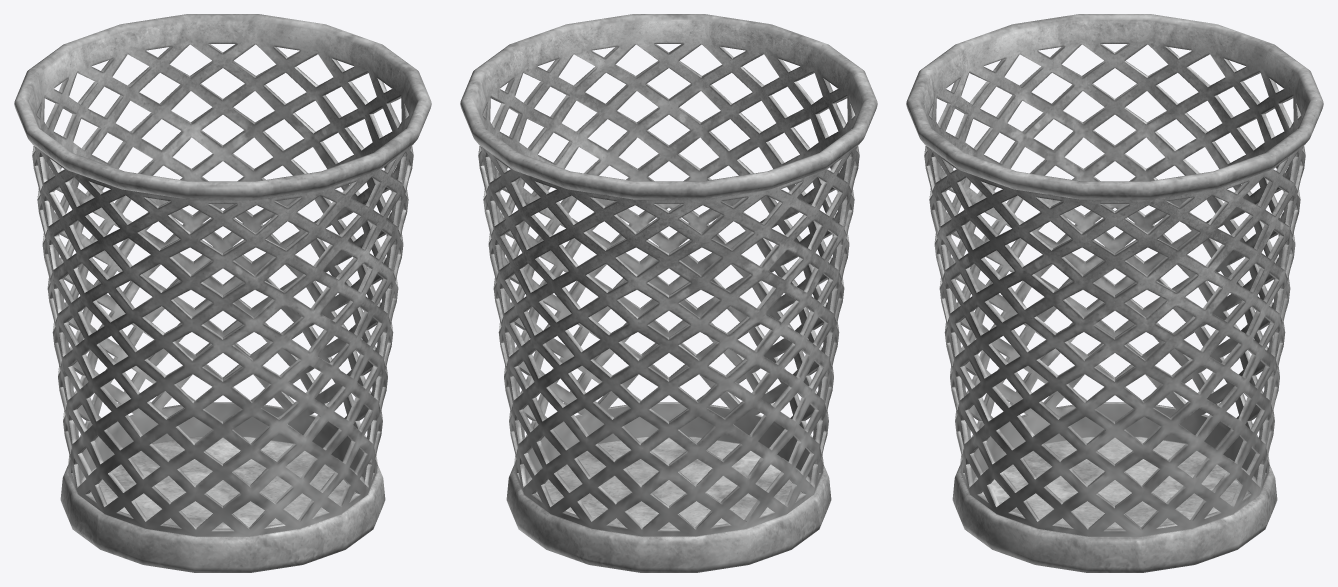
Rendered from steel_bin.glb.
The picture shows the model from 3 angles, left to right: view 1: azimuth 30°, elevation 25°; view 2: azimuth 150°, elevation 25°; view 3: azimuth 270°, elevation 25°; orthographic projection.
Parts seen in each view (by area): view 1: SM_bin; view 2: SM_bin; view 3: SM_bin.
Part boxes in pixels (<box>): SM_bin: <box>14,14,431,572</box>; SM_bin: <box>460,14,877,572</box>; SM_bin: <box>906,14,1323,572</box>.
Size of the model in its own units: 0.3416 by 0.3761 by 0.3469.
Materials: 1 (1 with a texture image).
